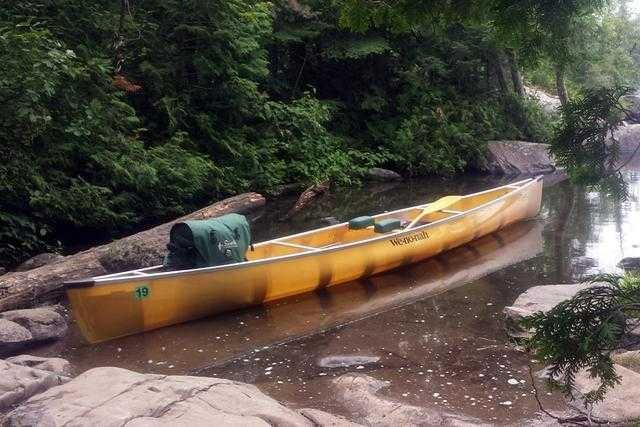kayak: (62, 177, 541, 342)
